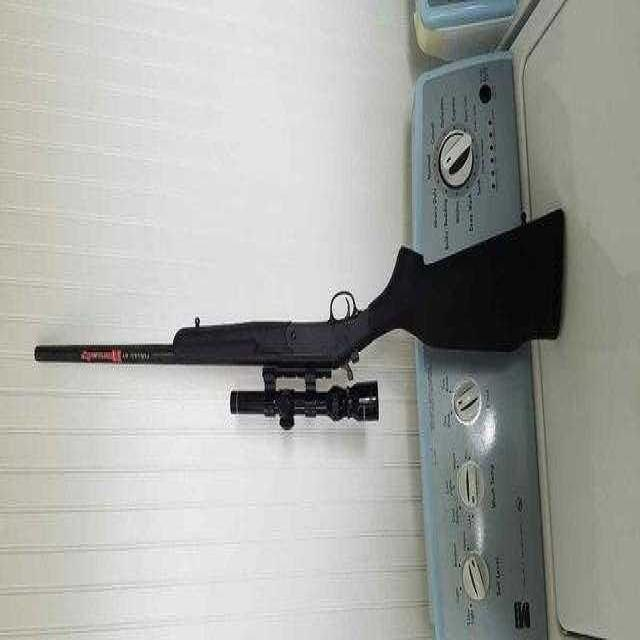heavyweapon: (37, 206, 572, 455)
